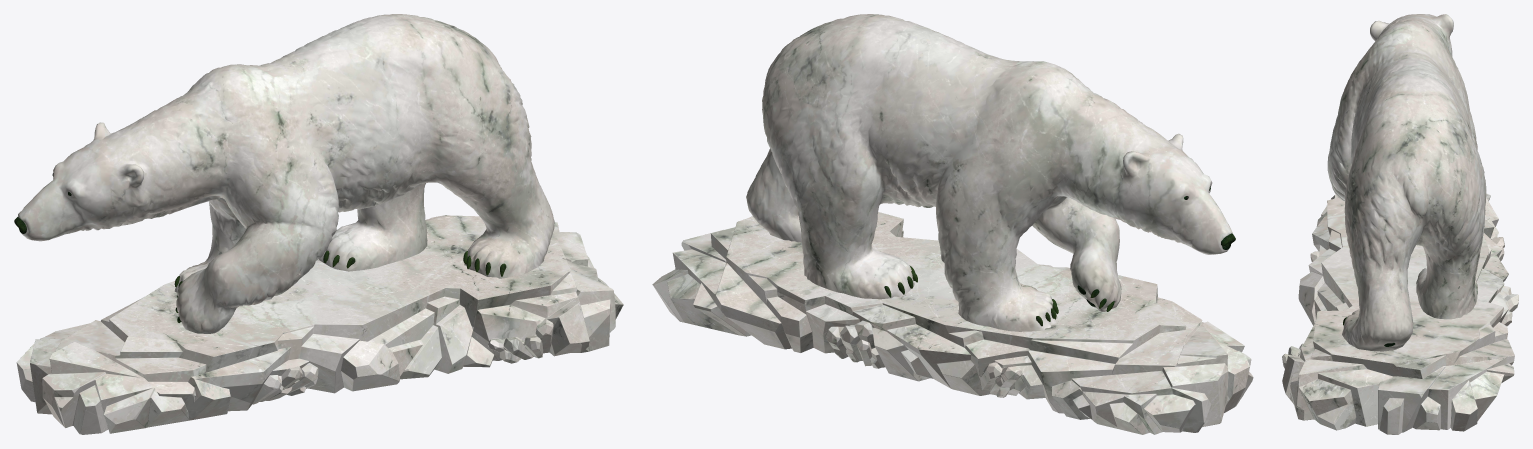
The picture shows the model from 3 angles, left to right: view 1: azimuth 30°, elevation 25°; view 2: azimuth 150°, elevation 25°; view 3: azimuth 270°, elevation 25°; orthographic projection. The views are drawn at different scales.
Visible parts, largest first — view 1: statue3894; view 2: statue3894; view 3: statue3894.
Part boxes in pixels (bbox=[...]): statue3894: bbox=[14, 14, 623, 434]; statue3894: bbox=[652, 14, 1253, 434]; statue3894: bbox=[1282, 14, 1518, 434].
Bounding box in the file's own units: 0.6745 × 0.3605 × 0.2872.
Materials: 2 (2 with a texture image).
